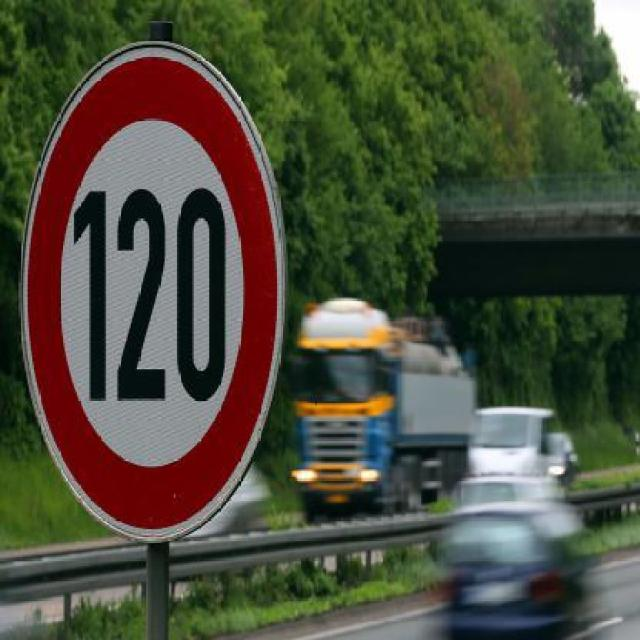forb_speed_over_120: (26, 50, 280, 542)
